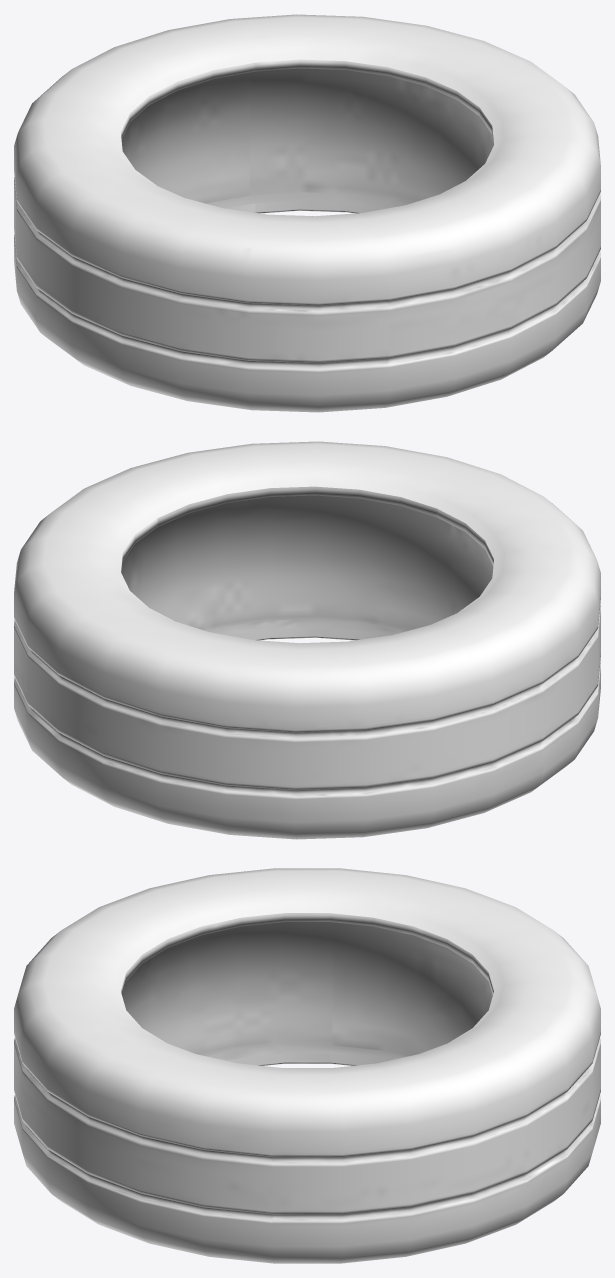
The model's file is tire_02.glb.
3 views of the same model, one above another, from view 1: azimuth 30°, elevation 25°; view 2: azimuth 150°, elevation 25°; view 3: azimuth 270°, elevation 25° (orthographic).
Visible parts, largest first — view 1: rueda; view 2: rueda; view 3: rueda.
Boxes of the visible parts, <box> form: rueda: <box>14,14,600,412</box>; rueda: <box>14,441,600,839</box>; rueda: <box>14,868,600,1263</box>.
Bounding box in the file's own units: 0.6505 × 0.2079 × 0.6553.
Materials: 1 (1 with a texture image).
